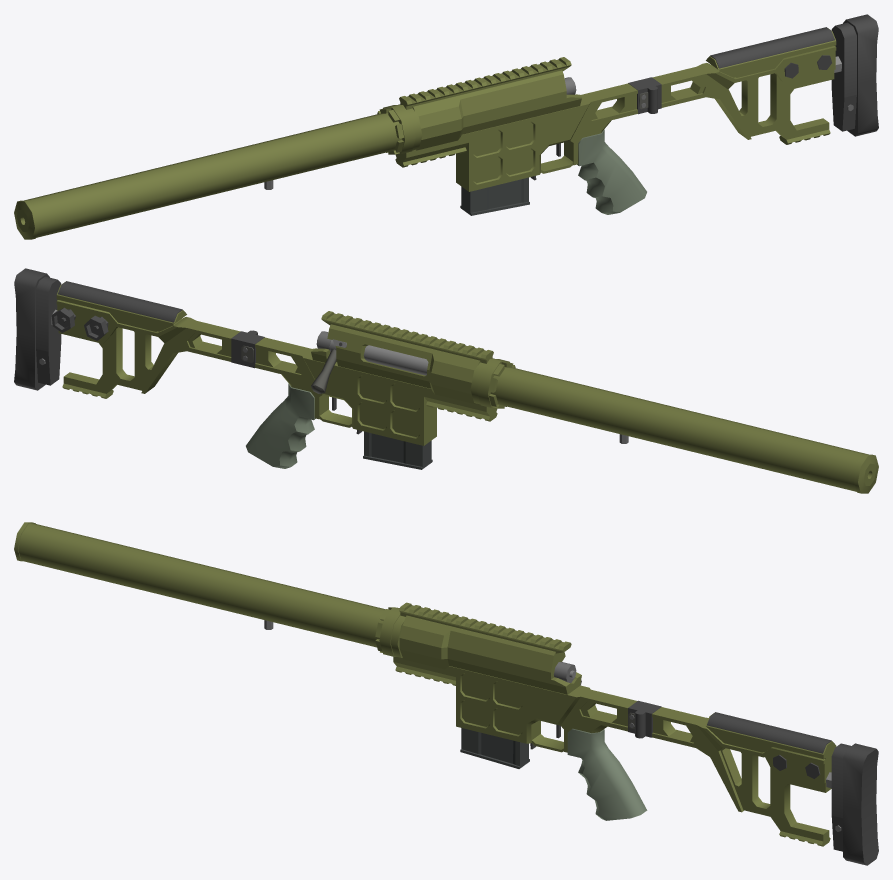
Rendered from dvl-10.glb.
The picture shows the model from 3 angles, top to bottom: view 1: azimuth 30°, elevation 25°; view 2: azimuth 150°, elevation 25°; view 3: azimuth 330°, elevation 25°; orthographic projection.
Parts seen in each view (by area): view 1: Cylinder.003, Cube.028; view 2: Cylinder.003, Cylinder.006, Cube.028; view 3: Cylinder.003, Cube.028.
Part boxes in pixels (box(x1,y1,x2,y2)): Cylinder.003: box(14, 14, 878, 239); Cube.028: box(460, 177, 529, 215); Cylinder.003: box(14, 268, 878, 493); Cylinder.006: box(311, 331, 428, 393); Cube.028: box(363, 431, 432, 469); Cylinder.003: box(14, 522, 878, 865); Cube.028: box(460, 728, 529, 768).
Size of the model in its own units: 920 by 169 by 68.83.
